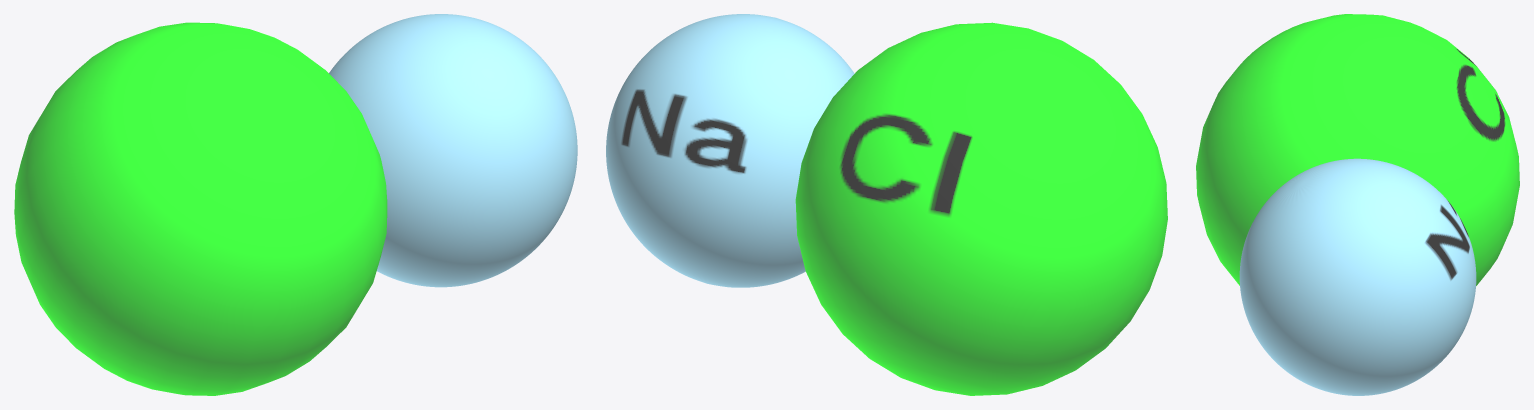
File: NaCl.glb
The picture shows the model from 3 angles, left to right: view 1: azimuth 30°, elevation 25°; view 2: azimuth 150°, elevation 25°; view 3: azimuth 270°, elevation 25°; orthographic projection. The views are drawn at different scales.
Visible parts, largest first — view 1: 球体.001, 球体; view 2: 球体.001, 球体; view 3: 球体.001, 球体.
Part boxes in pixels (left/top/right/bottom): 球体.001: left=14, top=22, right=387, bottom=395; 球体: left=329, top=14, right=577, bottom=287; 球体.001: left=795, top=22, right=1167, bottom=395; 球体: left=606, top=14, right=854, bottom=287; 球体.001: left=1196, top=14, right=1519, bottom=285; 球体: left=1239, top=158, right=1476, bottom=395.
Size of the model in its own units: 1.53 by 0.9491 by 0.9491.
Materials: 2 (2 with a texture image).
